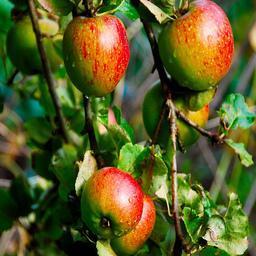apple: (159, 1, 233, 90), (62, 13, 130, 99), (80, 166, 144, 237)
